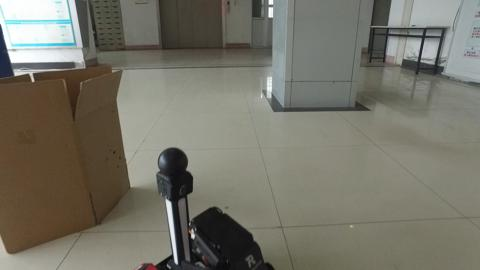chariot: (133, 142, 278, 270)
